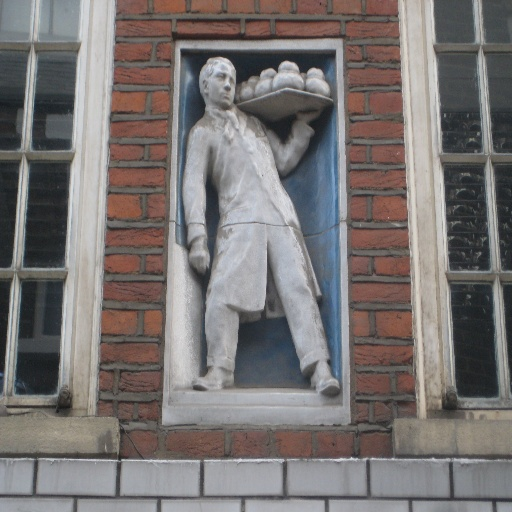hand: (188, 239, 209, 276), (295, 107, 325, 125)
